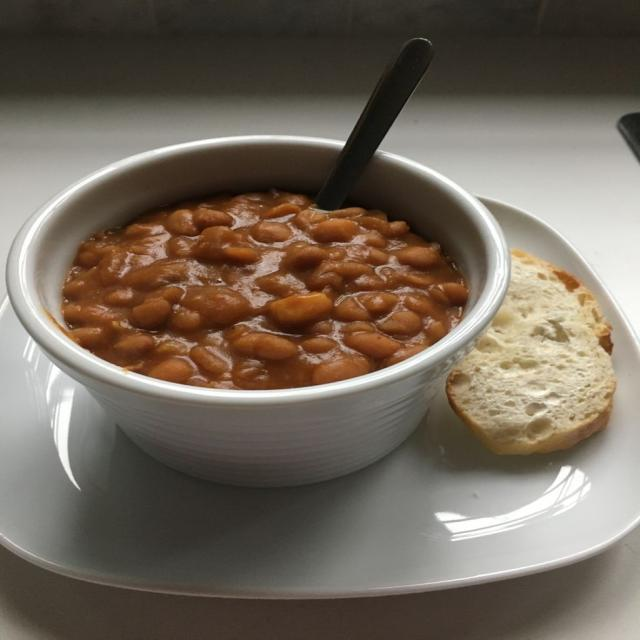beans: (62, 190, 466, 389), (182, 286, 251, 324), (269, 293, 333, 324), (124, 260, 188, 290), (233, 333, 298, 360), (313, 355, 370, 384), (193, 226, 240, 261), (345, 332, 400, 358), (281, 243, 328, 270), (255, 272, 305, 297), (133, 298, 172, 329), (309, 219, 359, 243), (190, 346, 228, 377), (148, 357, 194, 382), (307, 261, 344, 290), (378, 311, 422, 335), (98, 248, 126, 284), (395, 246, 439, 268), (333, 297, 371, 322), (383, 344, 426, 366), (114, 333, 154, 356), (359, 292, 398, 315), (166, 209, 199, 236), (251, 222, 293, 243), (194, 208, 233, 230), (401, 293, 434, 317), (330, 261, 373, 279), (72, 327, 107, 349), (170, 309, 203, 332), (437, 282, 467, 305), (146, 286, 183, 304), (293, 210, 326, 230), (222, 247, 259, 264), (358, 216, 389, 236), (124, 223, 165, 238), (301, 336, 337, 353), (167, 237, 196, 258), (154, 339, 189, 356), (352, 273, 386, 290), (399, 272, 435, 288), (263, 203, 300, 218), (63, 278, 86, 300), (105, 288, 133, 306), (428, 285, 450, 307), (76, 250, 102, 268), (342, 321, 375, 335), (426, 321, 447, 343), (362, 231, 387, 248), (327, 207, 366, 217), (367, 248, 389, 265), (307, 321, 333, 335), (387, 221, 409, 237)
sliced bread: (446, 250, 616, 455)
